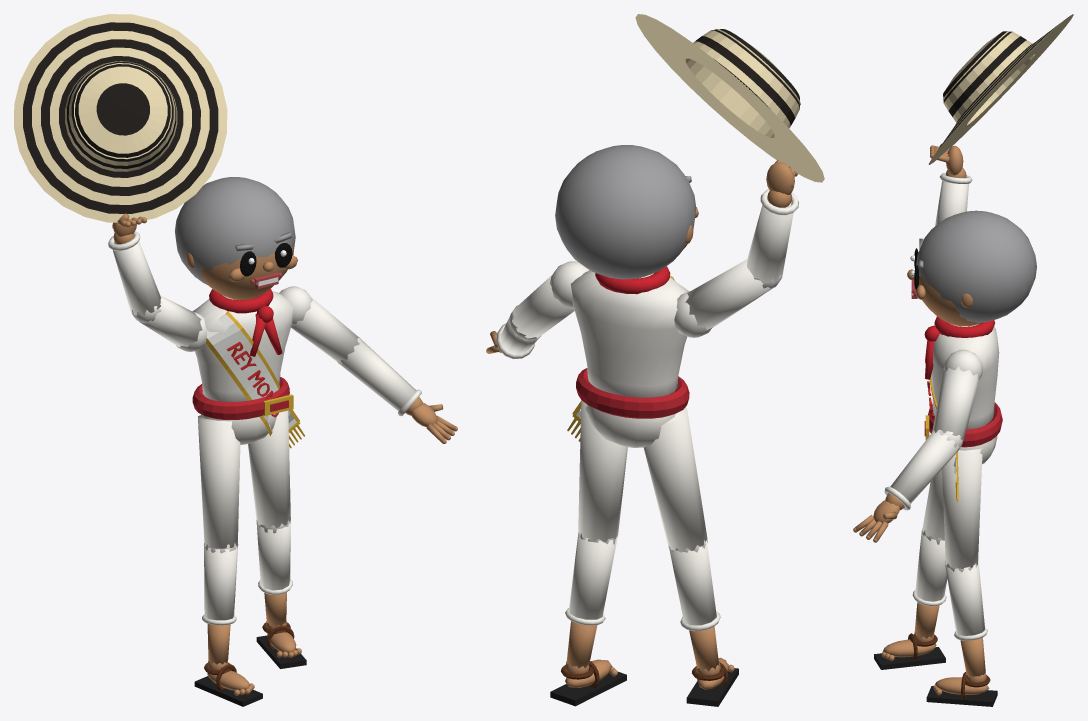
Rendered from rey-momo-sombrero.glb.
The picture shows the model from 3 angles, left to right: view 1: azimuth 30°, elevation 25°; view 2: azimuth 150°, elevation 25°; view 3: azimuth 270°, elevation 25°; orthographic projection. The views are drawn at different scales.
Parts seen in each view (by area): view 1: ReyMomo_SombreroCrema, ReyMomo_SombreroNegro, ReyMomo_Pantalon, ReyMomo_Camisa, ReyMomo_Cabello, ReyMomo_Piel, ReyMomo_BandaBlanca, ReyMomo_FajaRoja, ReyMomo_PanueloRojo, ReyMomo_Dorado, ReyMomo_Suela; view 2: ReyMomo_Camisa, ReyMomo_Pantalon, ReyMomo_Cabello, ReyMomo_SombreroCrema, ReyMomo_Piel, ReyMomo_FajaRoja, ReyMomo_Suela, ReyMomo_SombreroNegro, ReyMomo_PanueloRojo, ReyMomo_Cuero; view 3: ReyMomo_Cabello, ReyMomo_Camisa, ReyMomo_Pantalon, ReyMomo_Piel, ReyMomo_SombreroCrema, ReyMomo_SombreroNegro, ReyMomo_Suela, ReyMomo_PanueloRojo, ReyMomo_FajaRoja, ReyMomo_Cuero.
Boxes of the visible parts, bbox=[...] form: ReyMomo_SombreroCrema: bbox=[14, 14, 227, 222]; ReyMomo_SombreroNegro: bbox=[23, 22, 218, 213]; ReyMomo_Pantalon: bbox=[198, 410, 292, 625]; ReyMomo_Camisa: bbox=[108, 231, 421, 416]; ReyMomo_Cabello: bbox=[175, 177, 295, 284]; ReyMomo_Piel: bbox=[112, 213, 457, 695]; ReyMomo_BandaBlanca: bbox=[206, 314, 296, 432]; ReyMomo_FajaRoja: bbox=[192, 376, 289, 419]; ReyMomo_PanueloRojo: bbox=[209, 288, 282, 356]; ReyMomo_Dorado: bbox=[205, 311, 304, 448]; ReyMomo_Suela: bbox=[194, 635, 306, 706]; ReyMomo_Camisa: bbox=[496, 189, 798, 397]; ReyMomo_Pantalon: bbox=[565, 400, 720, 631]; ReyMomo_Cabello: bbox=[555, 145, 696, 279]; ReyMomo_SombreroCrema: bbox=[635, 14, 824, 182]; ReyMomo_Piel: bbox=[486, 159, 797, 689]; ReyMomo_FajaRoja: bbox=[576, 368, 689, 418]; ReyMomo_Suela: bbox=[550, 668, 738, 706]; ReyMomo_SombreroNegro: bbox=[695, 29, 799, 125]; ReyMomo_PanueloRojo: bbox=[595, 266, 670, 294]; ReyMomo_Cuero: bbox=[561, 661, 728, 687]; ReyMomo_Cabello: bbox=[916, 210, 1036, 322]; ReyMomo_Camisa: bbox=[884, 173, 999, 510]; ReyMomo_Pantalon: bbox=[912, 436, 997, 640]; ReyMomo_Piel: bbox=[853, 144, 989, 695]; ReyMomo_SombreroCrema: bbox=[928, 14, 1073, 164]; ReyMomo_SombreroNegro: bbox=[938, 23, 1059, 149]; ReyMomo_Suela: bbox=[874, 647, 997, 706]; ReyMomo_PanueloRojo: bbox=[924, 316, 994, 379]; ReyMomo_FajaRoja: bbox=[924, 402, 1002, 447]; ReyMomo_Cuero: bbox=[908, 633, 990, 698].
Bounding box in the file's own units: 1.39 × 2.34 × 0.7572.
